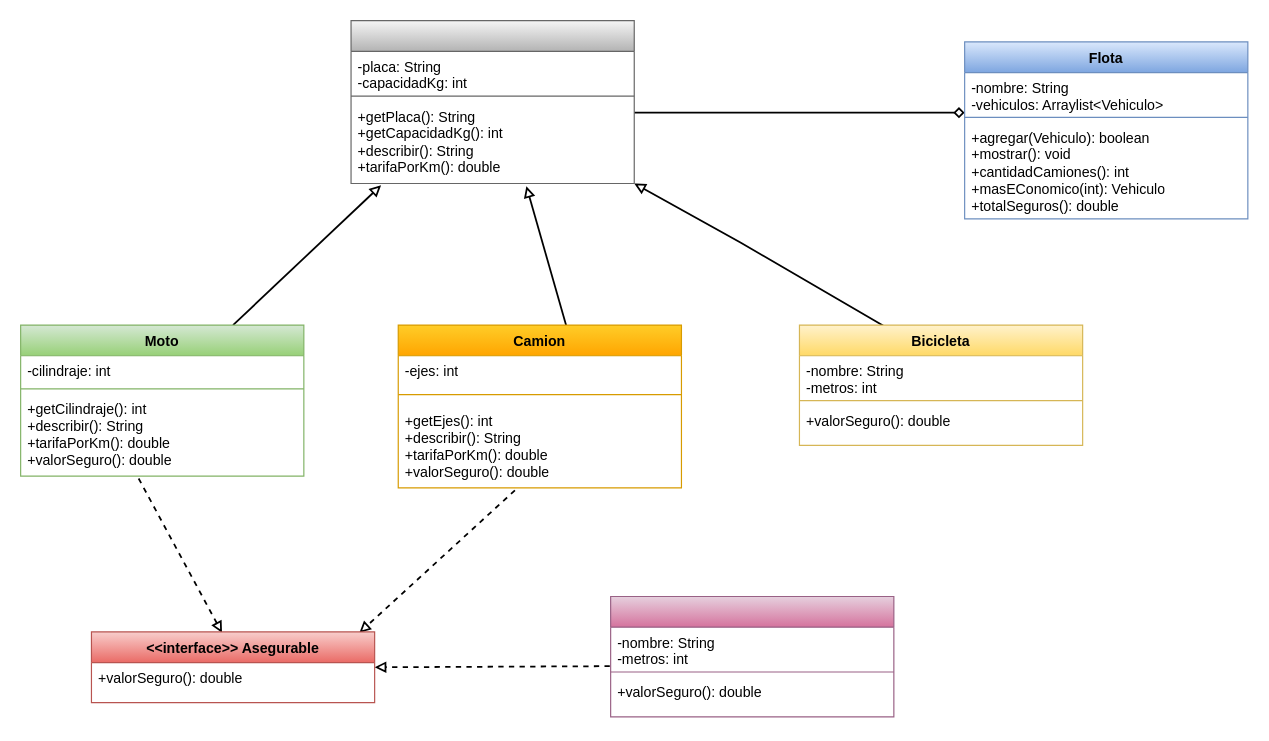
The diagram is 1269 pixels wide and 741 high, and some of its shapes have lost their labels. Here are the shapes that lost their labels. From the top down, the box of each, then its label:
(350, 19, 634, 183): Vehículo (abstracta)
(609, 595, 894, 717): Bodega
